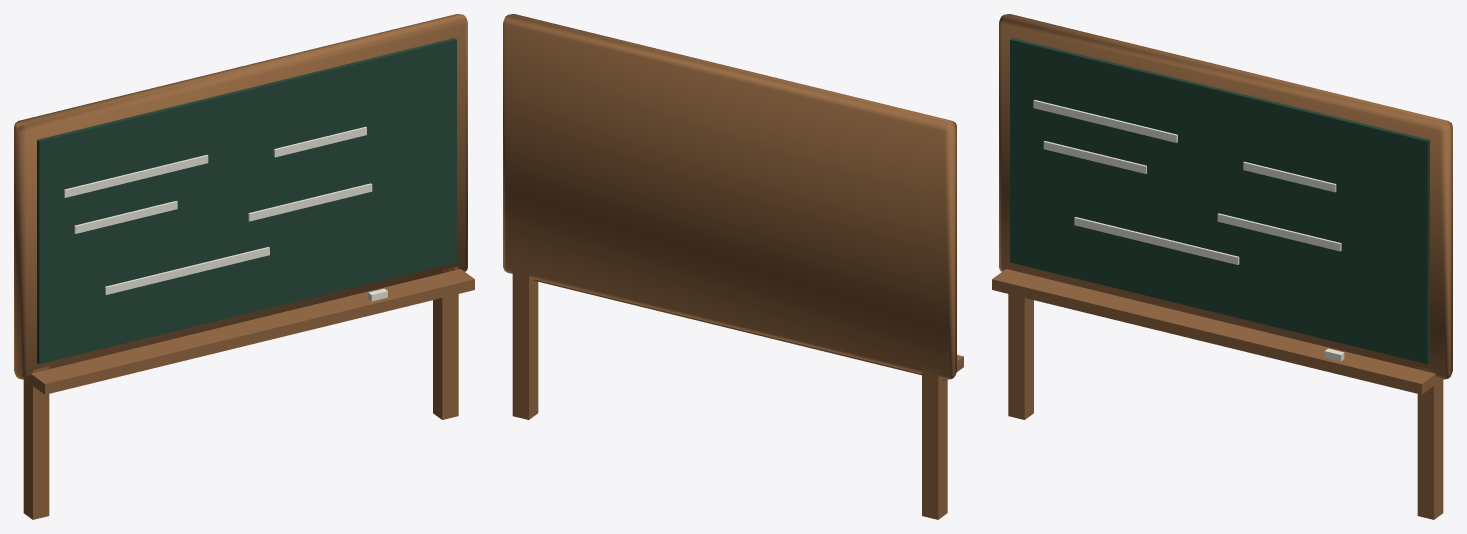
The model's file is v_furn_blackboard.glb.
The picture shows the model from 3 angles, left to right: view 1: azimuth 30°, elevation 25°; view 2: azimuth 150°, elevation 25°; view 3: azimuth 330°, elevation 25°; orthographic projection.
Parts seen in each view (by area): view 1: Blackboard; view 2: Blackboard; view 3: Blackboard.
Boxes of the visible parts, x1,y1,x2,y2 form: Blackboard: (14, 14, 474, 519); Blackboard: (503, 14, 963, 519); Blackboard: (992, 14, 1452, 519).
Size of the model in its own units: 2.2 by 1.85 by 0.2.
